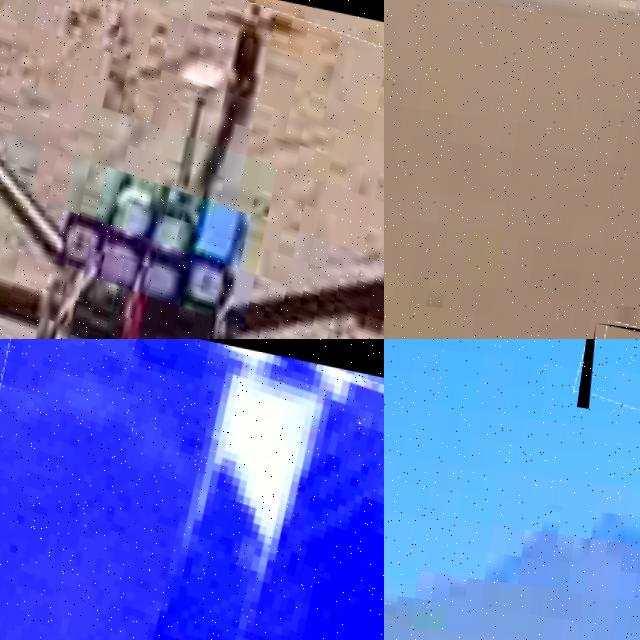0: (0, 0, 384, 339)
drone: (0, 339, 384, 640)
